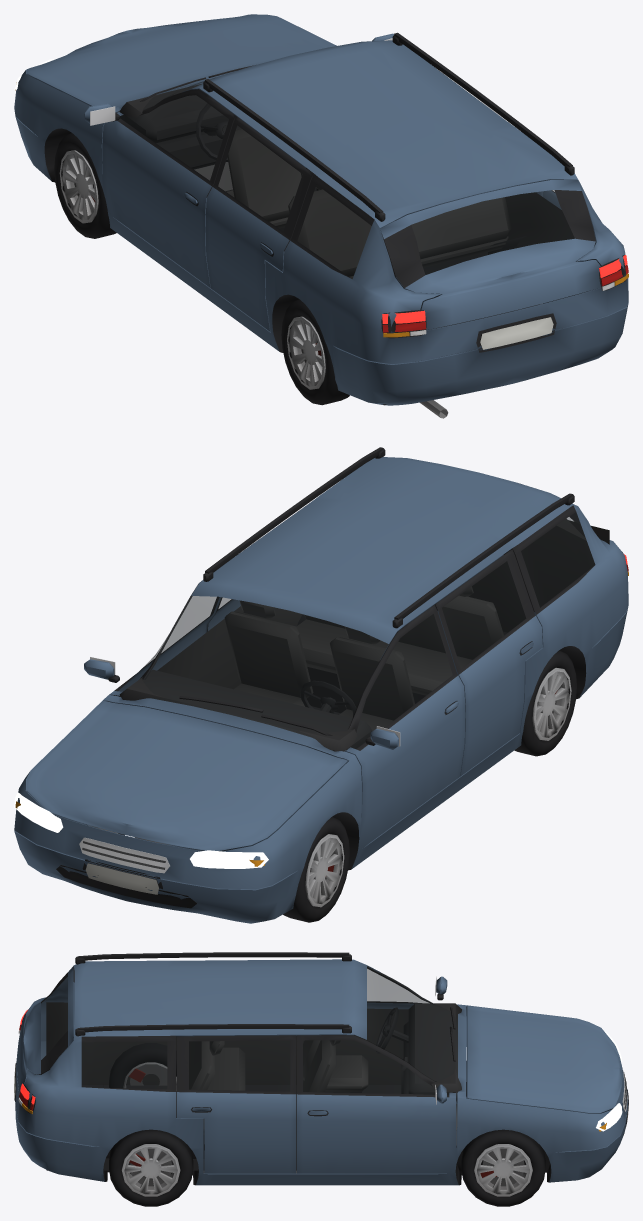
The model's file is hatchback_b.glb.
3 renders of one model, top to bottom at view 1: azimuth 30°, elevation 25°; view 2: azimuth 150°, elevation 25°; view 3: azimuth 270°, elevation 25°, orthographic. The views are drawn at different scales.
Parts seen in each view (by area): view 1: hatchback_b_body, wheel_rl, wheel_fl; view 2: hatchback_b_body, wheel_fl, wheel_rl, lamp_head_l, lamp_head_r; view 3: hatchback_b_body, wheel_rr, wheel_fr, wheel_rl.
Boxes of the visible parts, bbox=[...] form: hatchback_b_body: bbox=[14, 14, 628, 418]; wheel_rl: bbox=[281, 299, 349, 405]; wheel_fl: bbox=[54, 133, 116, 238]; hatchback_b_body: bbox=[14, 447, 628, 923]; wheel_fl: bbox=[283, 817, 349, 922]; wheel_rl: bbox=[514, 650, 576, 756]; lamp_head_l: bbox=[190, 850, 268, 868]; lamp_head_r: bbox=[14, 792, 63, 832]; hatchback_b_body: bbox=[14, 952, 628, 1185]; wheel_rr: bbox=[109, 1129, 193, 1206]; wheel_fr: bbox=[461, 1129, 545, 1206]; wheel_rl: bbox=[109, 1043, 176, 1091].
Size of the model in its own units: 2.23 by 1.51 by 4.87.
